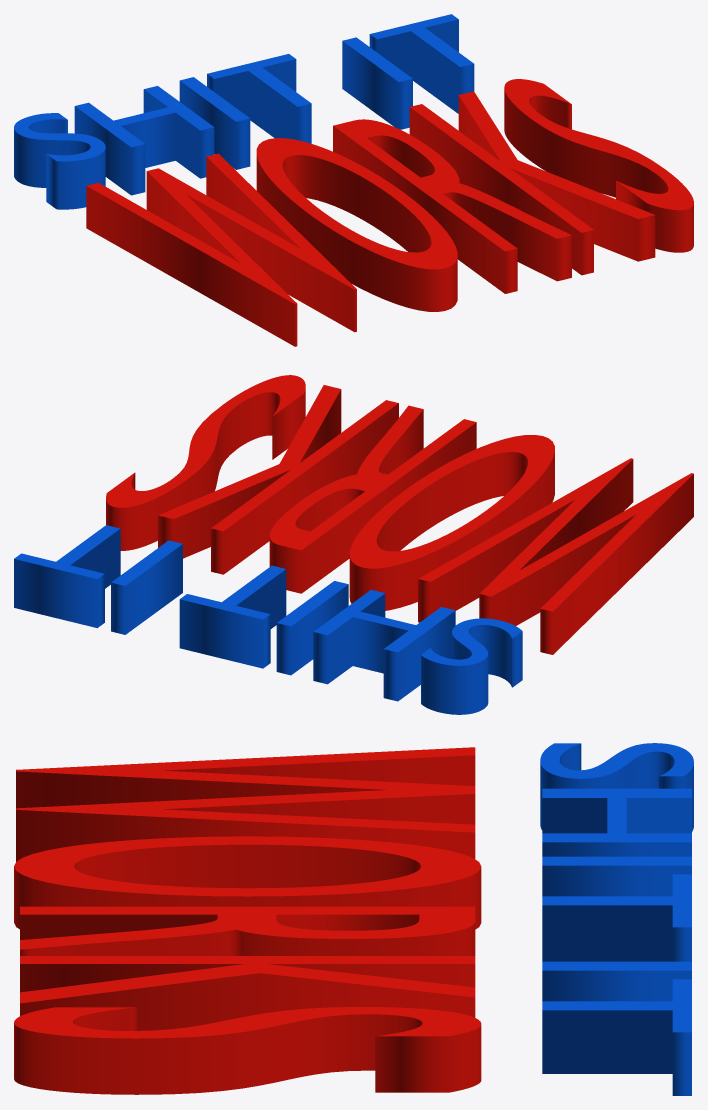
3 renders of one model, top to bottom at view 1: azimuth 30°, elevation 25°; view 2: azimuth 150°, elevation 25°; view 3: azimuth 270°, elevation 25°, orthographic. The views are drawn at different scales.
Visible parts, largest first — view 1: Text.001, Text; view 2: Text.001, Text; view 3: Text.001, Text.
Part boxes in pixels (x1,y1,x2,y2): Text.001: [86, 79, 693, 346]; Text: [14, 14, 474, 209]; Text.001: [106, 375, 693, 654]; Text: [14, 525, 522, 714]; Text.001: [14, 747, 481, 1094]; Text: [540, 743, 693, 1095].
Bounding box in the file's own units: 9.31 × 0.9477 × 9.17.
